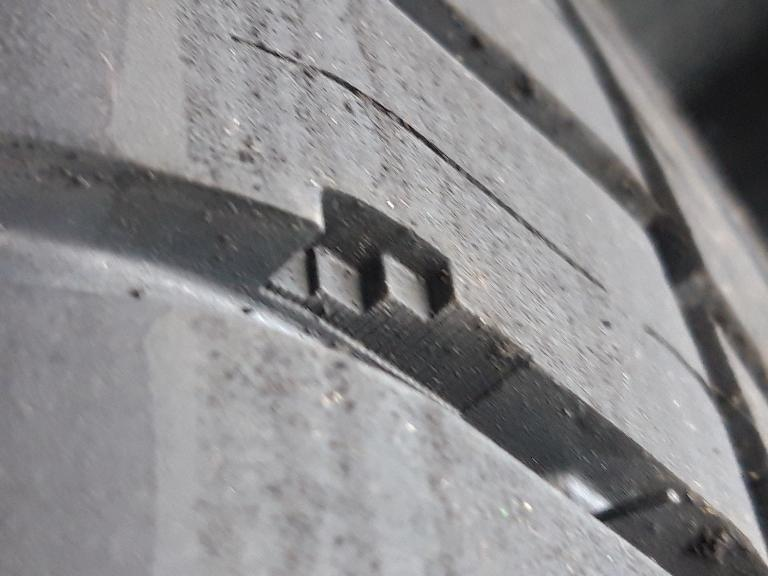temoin:75: (248, 177, 492, 391)
